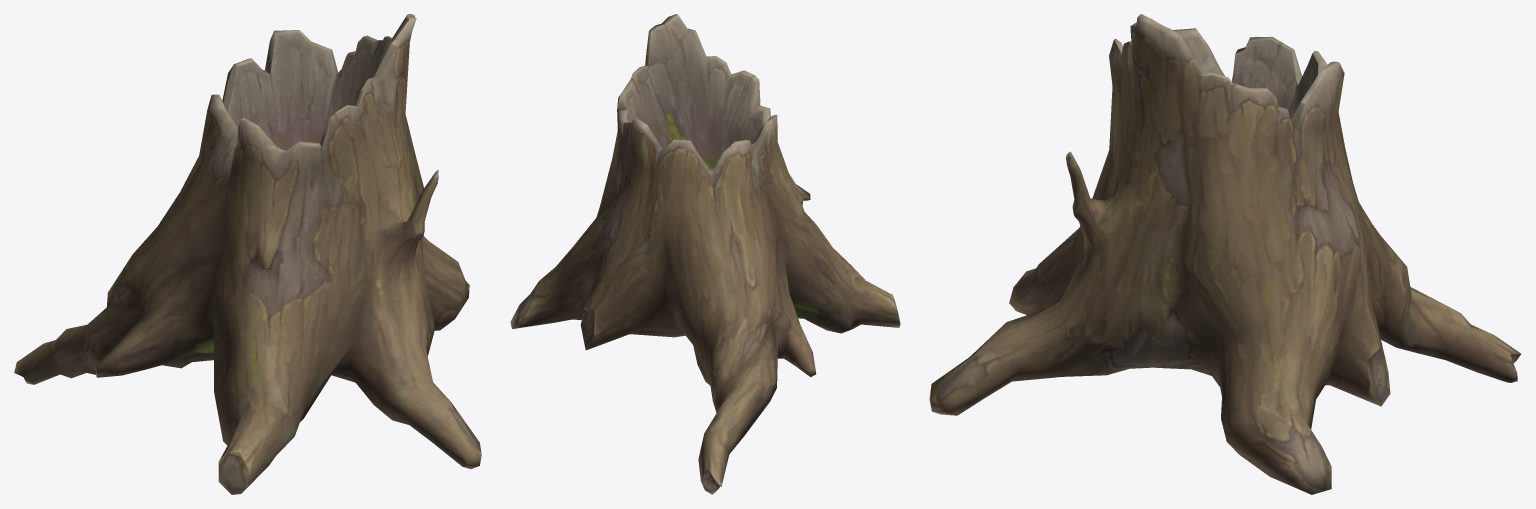
File: Area_MdProps_WdDeadWood02.fbx
The picture shows the model from 3 angles, left to right: view 1: azimuth 30°, elevation 25°; view 2: azimuth 150°, elevation 25°; view 3: azimuth 270°, elevation 25°; orthographic projection. The views are drawn at different scales.
Parts seen in each view (by area): view 1: Area_MdProps_WdDeadWood02_Lod0; view 2: Area_MdProps_WdDeadWood02_Lod0; view 3: Area_MdProps_WdDeadWood02_Lod0.
Part boxes in pixels (box(x1,y1,x2,y2)): Area_MdProps_WdDeadWood02_Lod0: box(14, 14, 481, 494); Area_MdProps_WdDeadWood02_Lod0: box(510, 14, 900, 494); Area_MdProps_WdDeadWood02_Lod0: box(929, 14, 1520, 494).
Bounding box in the file's own units: 2.53 × 2.77 × 3.08.
Materials: 1 (1 with a texture image).
